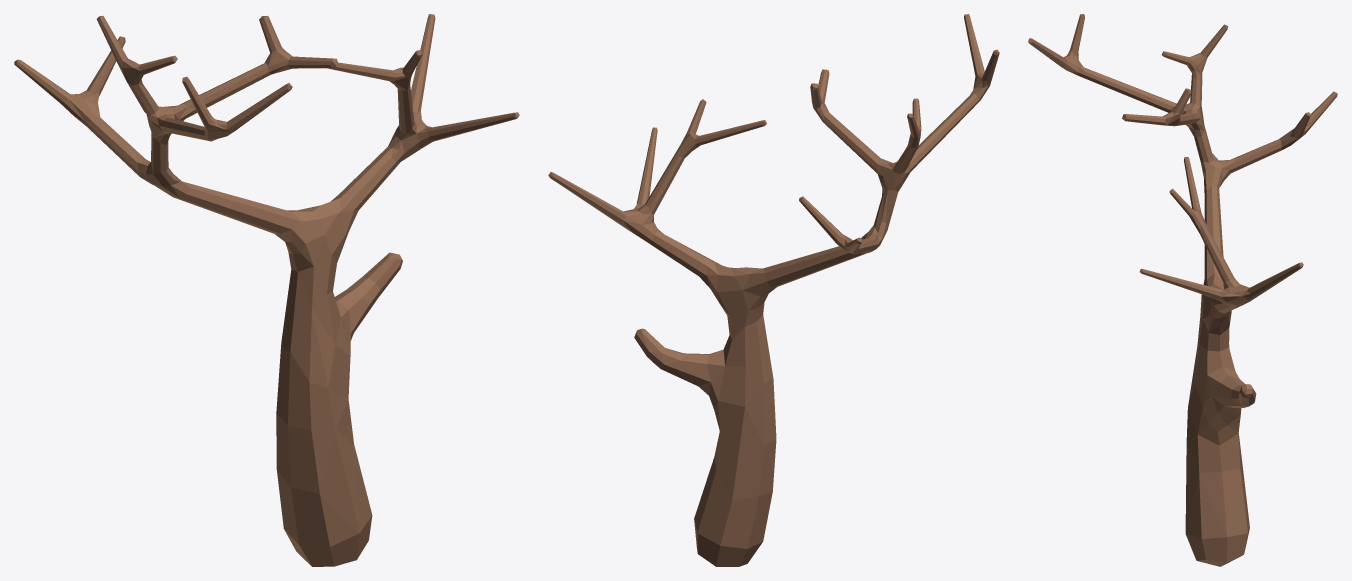
File: tree2.fbx
3 renders of one model, left to right at view 1: azimuth 30°, elevation 25°; view 2: azimuth 150°, elevation 25°; view 3: azimuth 270°, elevation 25°, orthographic. The views are drawn at different scales.
Visible parts, largest first — view 1: Plane.013; view 2: Plane.013; view 3: Plane.013.
Boxes of the visible parts, bbox=[...] form: Plane.013: bbox=[14, 14, 519, 566]; Plane.013: bbox=[548, 14, 999, 566]; Plane.013: bbox=[1028, 14, 1337, 566].
Size of the model in its own units: 368 by 538 by 325.
Materials: 1 (1 with a texture image).
